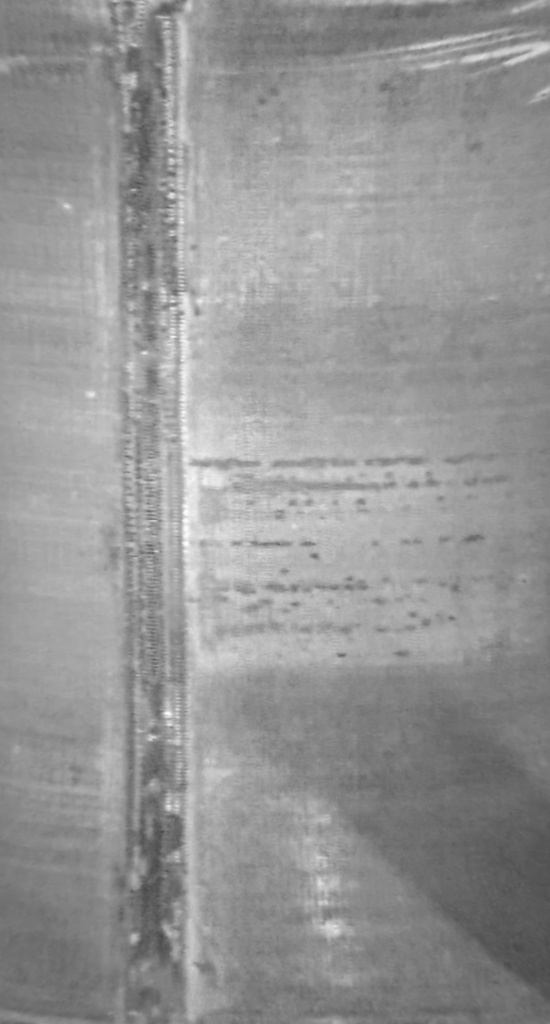splice: (103, 1, 200, 1020)
